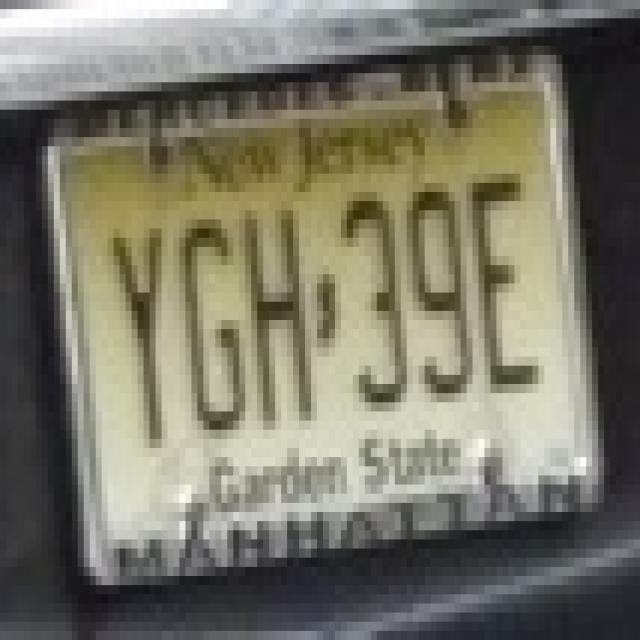licenseplate: (43, 102, 618, 562)
